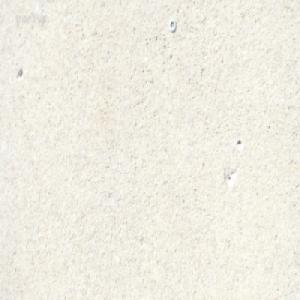Washer: (168, 18, 176, 32)
